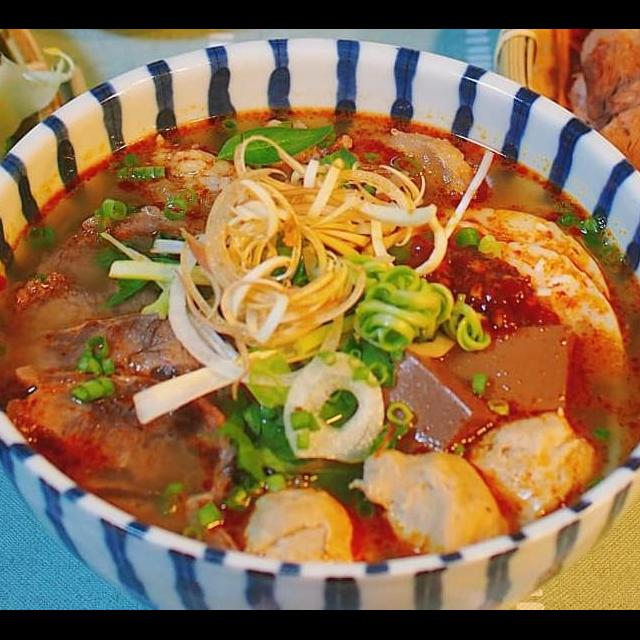thit bo: (0, 361, 240, 543), (0, 305, 228, 406), (28, 198, 215, 310), (4, 270, 188, 348)
